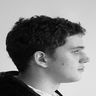ear: (31, 46, 52, 72)
